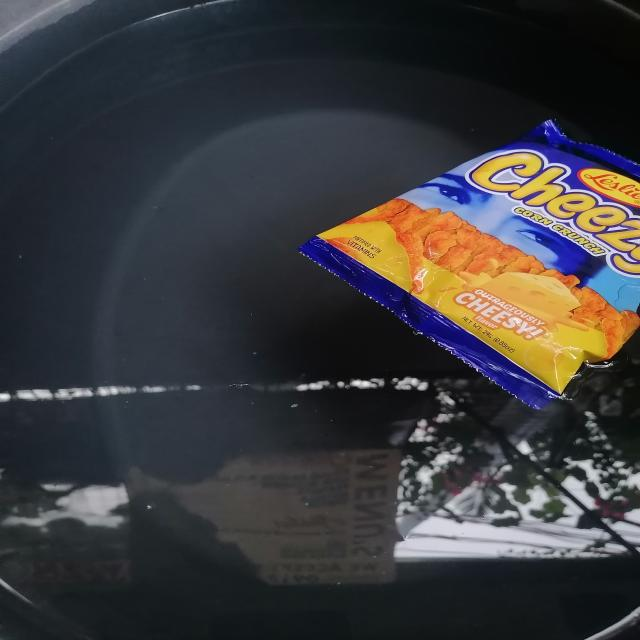Plastic Wrapper: (277, 102, 640, 422)
